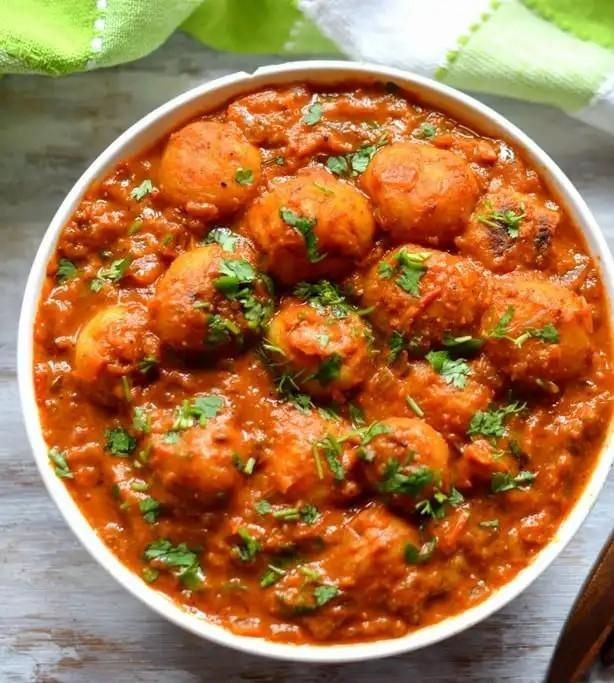DumAloo: (31, 77, 614, 644)
